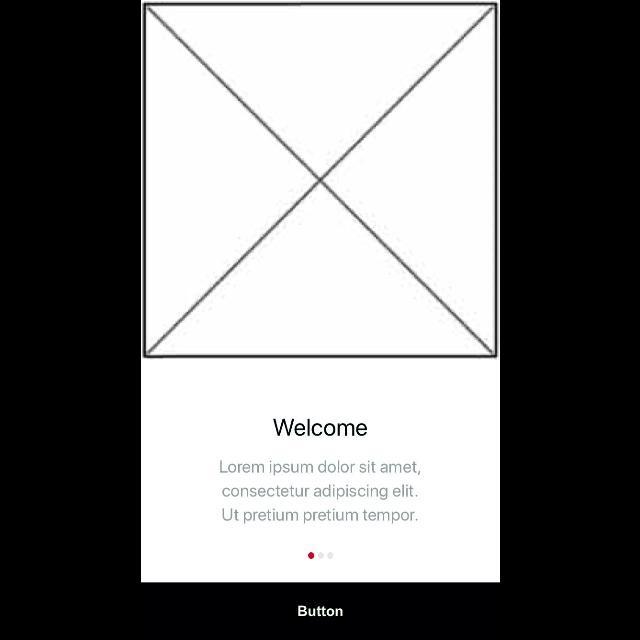image: (140, 1, 500, 359)
pageindicator: (308, 552, 334, 560)
text: (218, 461, 422, 524), (272, 418, 366, 436)
textbutton: (140, 582, 500, 640)
